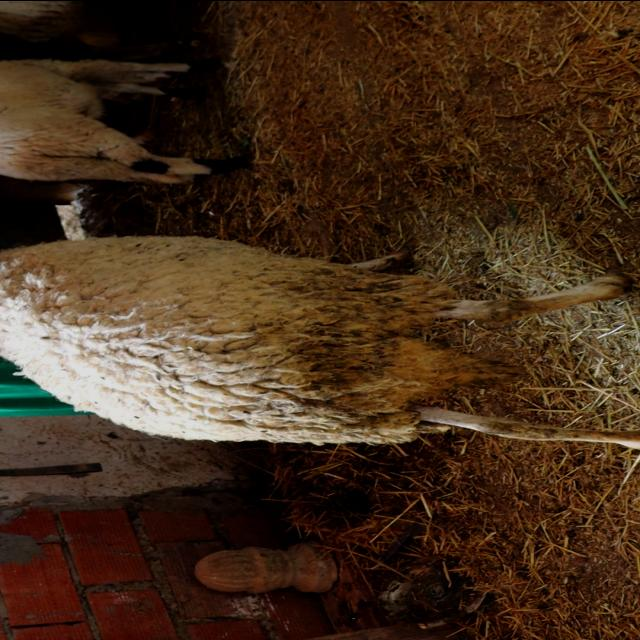Score_4: (0, 235, 639, 448)
